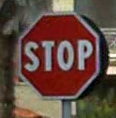stop: (15, 10, 104, 102)
